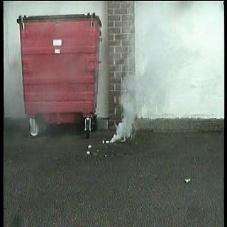smoke: (114, 84, 138, 138)
